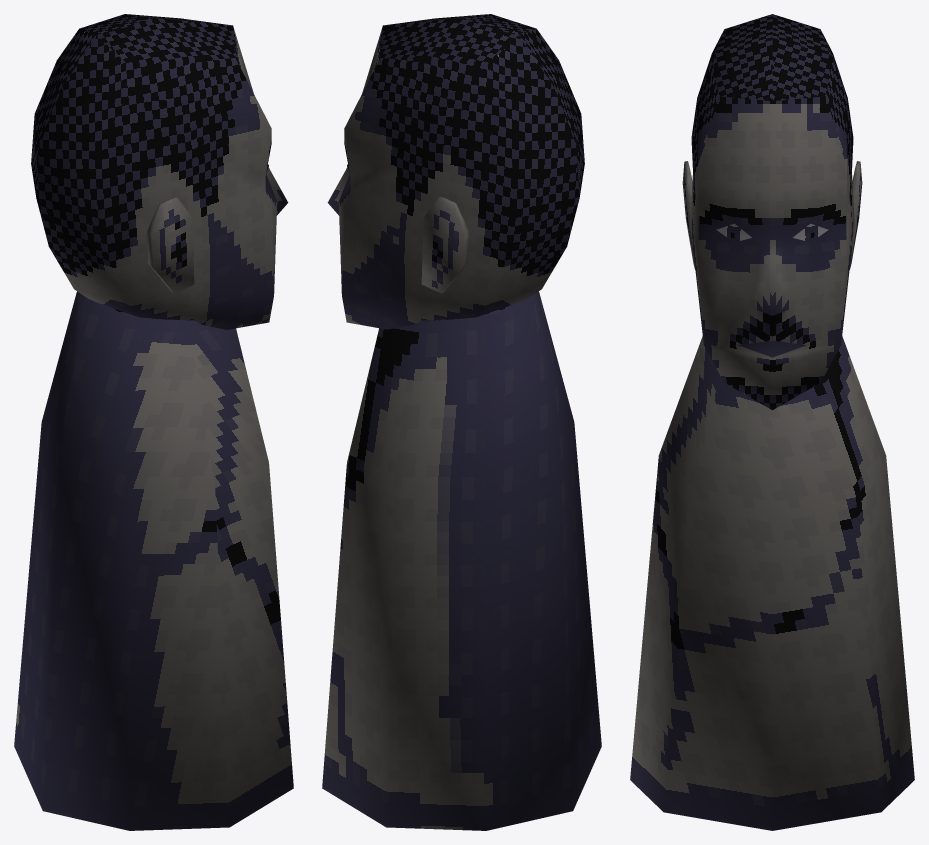
File: jordi-moai.glb
The picture shows the model from 3 angles, left to right: view 1: azimuth 30°, elevation 25°; view 2: azimuth 150°, elevation 25°; view 3: azimuth 270°, elevation 25°; orthographic projection. The views are drawn at different scales.
Parts seen in each view (by area): view 1: head, ears.001; view 2: head, ears.001; view 3: head, ears.001.
Boxes of the visible parts, box(x1,y1,x2,y2) form: head: box(14, 14, 293, 830); ears.001: box(147, 196, 194, 293); head: box(322, 14, 601, 830); ears.001: box(421, 196, 468, 293); head: box(630, 14, 914, 830); ears.001: box(682, 161, 862, 269).
Bounding box in the file's own units: 2.99 × 8.75 × 2.99.
1 material, 1 textured.
